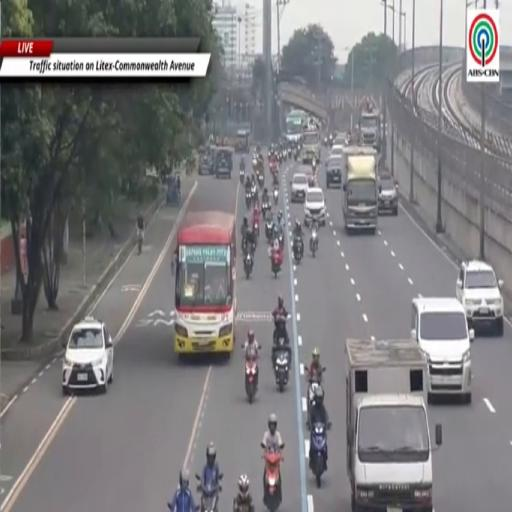bus: (174, 212, 236, 355), (286, 110, 307, 142)
car: (411, 297, 474, 403), (62, 317, 113, 394), (456, 261, 503, 335), (378, 173, 398, 216), (304, 187, 326, 226), (325, 156, 342, 188), (291, 173, 308, 202), (330, 144, 344, 157), (333, 133, 345, 146)
motorcycle: (263, 444, 284, 511), (309, 423, 328, 488), (305, 367, 325, 428), (196, 474, 221, 511), (274, 349, 290, 392), (245, 359, 258, 403), (273, 316, 287, 347), (271, 251, 282, 278), (293, 236, 303, 264), (244, 252, 253, 279), (310, 229, 318, 257), (265, 220, 273, 243), (262, 198, 270, 218), (277, 230, 284, 249), (138, 230, 143, 254), (246, 190, 252, 210), (270, 159, 278, 173), (253, 219, 259, 237), (258, 173, 264, 189), (251, 185, 257, 200), (242, 236, 247, 253), (273, 188, 278, 204), (312, 158, 317, 173), (252, 158, 258, 170), (273, 173, 278, 187), (240, 170, 245, 183), (294, 150, 299, 161), (282, 151, 287, 161), (288, 148, 291, 158)
truck: (346, 339, 442, 511), (342, 147, 378, 233), (358, 106, 381, 152), (301, 130, 320, 164), (235, 130, 250, 153)
